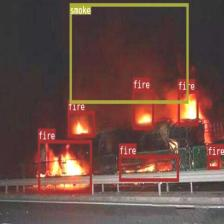fire: (37, 140, 92, 193), (119, 155, 178, 181), (133, 89, 154, 129), (177, 90, 198, 125), (68, 110, 94, 136), (208, 155, 220, 169)
smoke: (69, 2, 188, 103)
